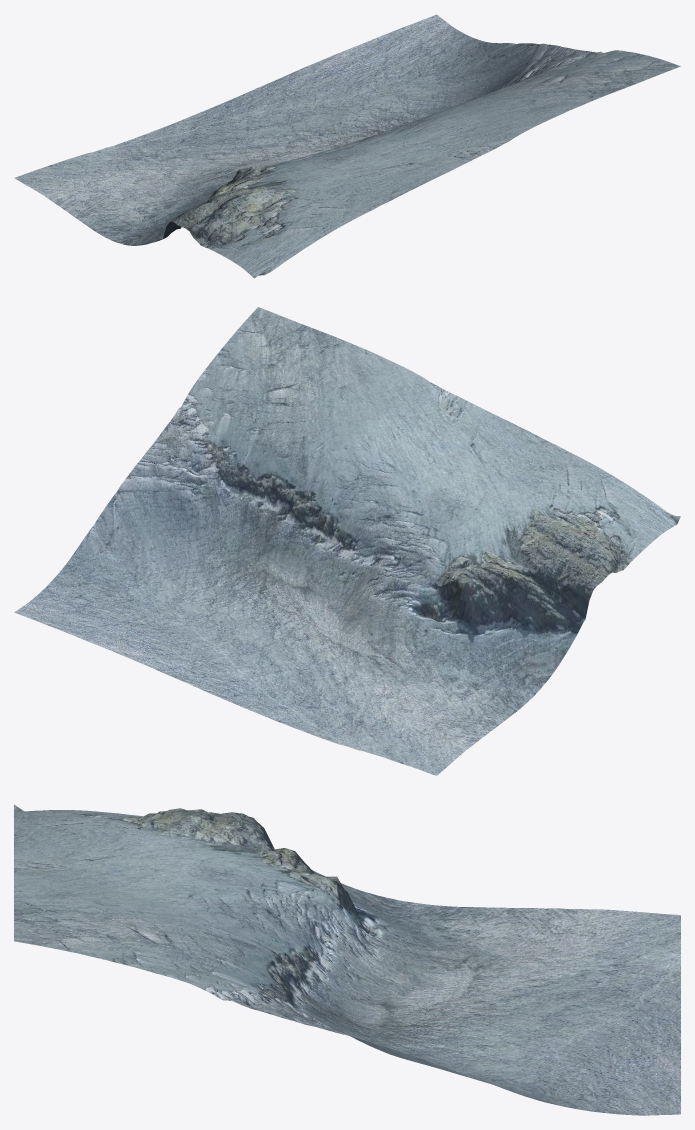
Rendered from Silv_tile_11.gltf.
3 renders of one model, top to bottom at view 1: azimuth 30°, elevation 25°; view 2: azimuth 150°, elevation 25°; view 3: azimuth 270°, elevation 25°, orthographic. The views are drawn at different scales.
Visible parts, largest first — view 1: 18.010; view 2: 18.010; view 3: 18.010.
Boxes of the visible parts, x1,y1,x2,y2 form: 18.010: (14, 14, 680, 278); 18.010: (14, 307, 680, 775); 18.010: (14, 804, 680, 1115).
Size of the model in its own units: 0.5 by 0.2114 by 0.5.
Materials: 1 (1 with a texture image).
